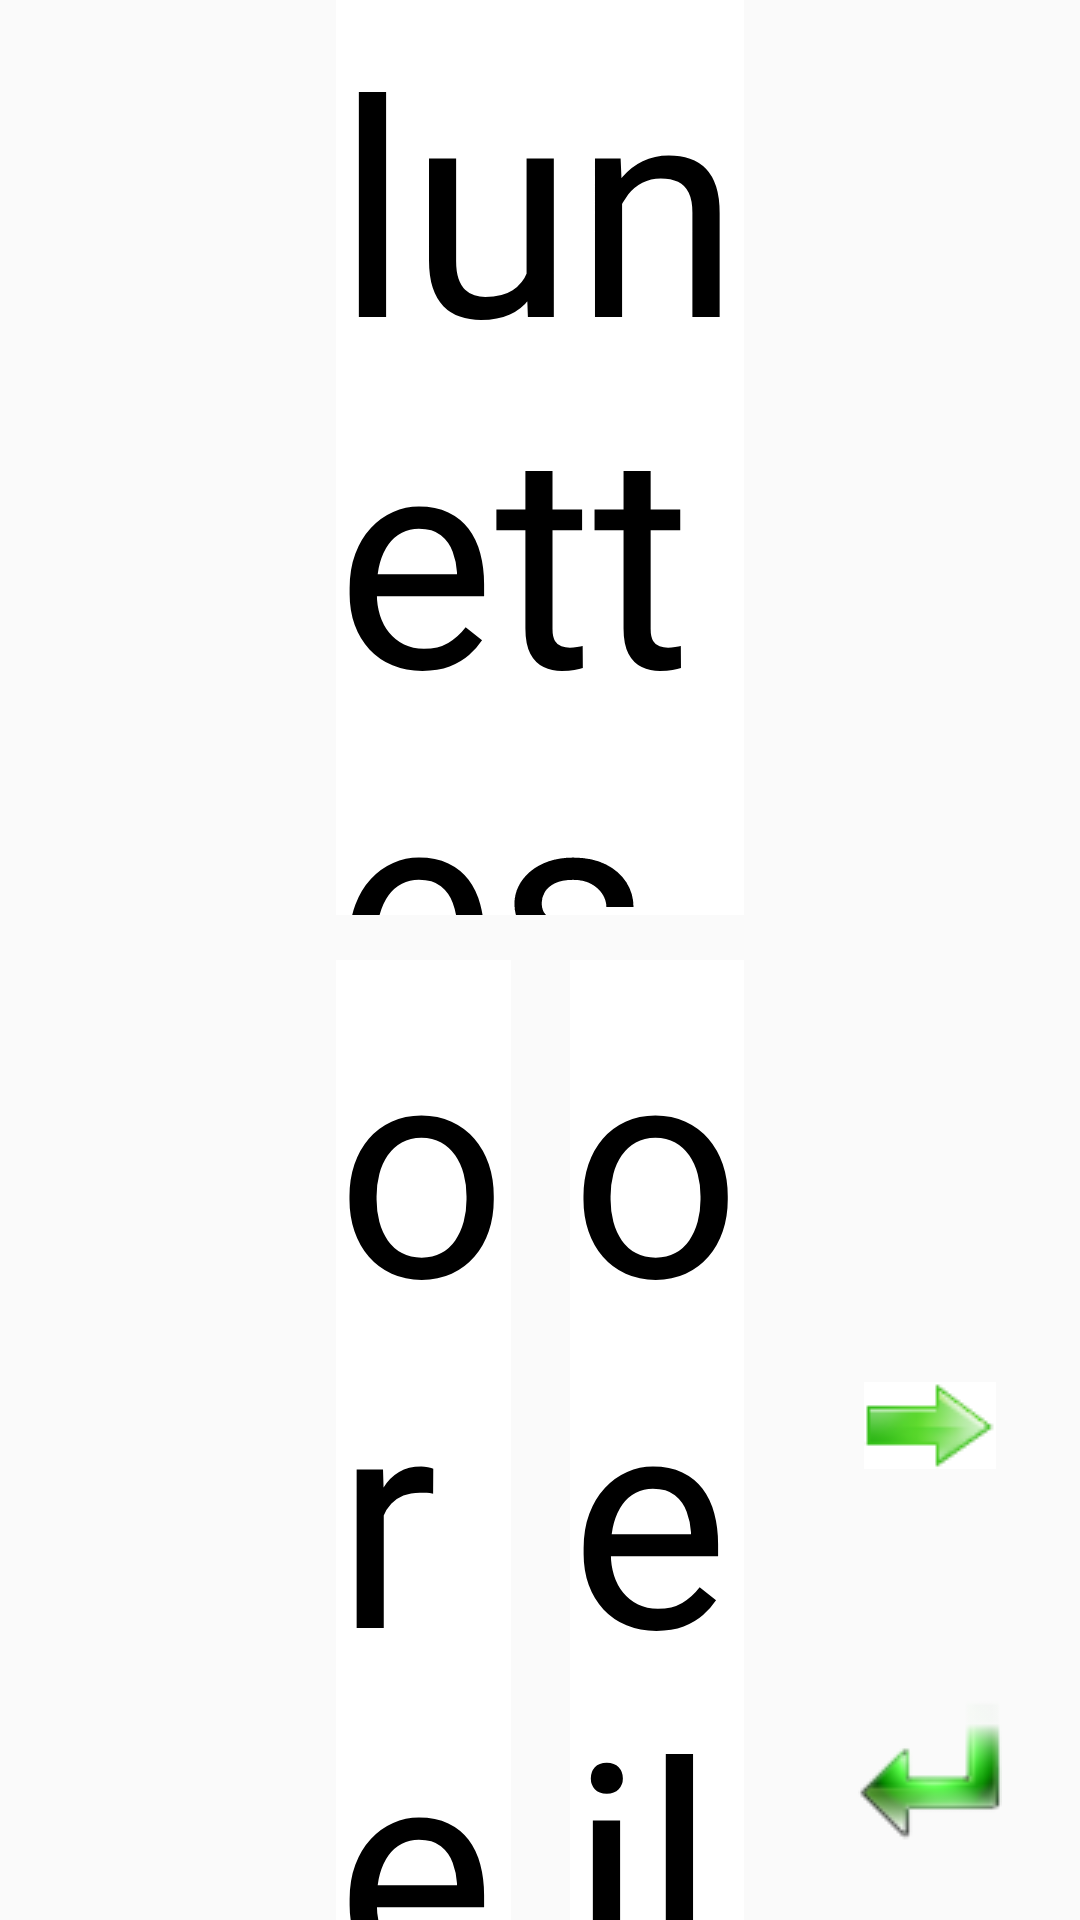

Icon bounding boxes for this 1080×1920 phone screenshot, format {"x1": x1, "y1": y1, "x2": x2, "y2": y2}:
next arrow: {"x1": 866, "y1": 1384, "x2": 993, "y2": 1467}
